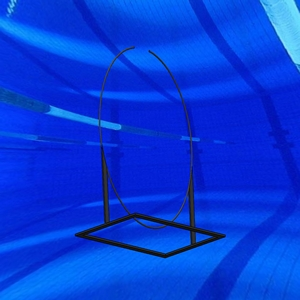circle: (74, 45, 228, 260)
